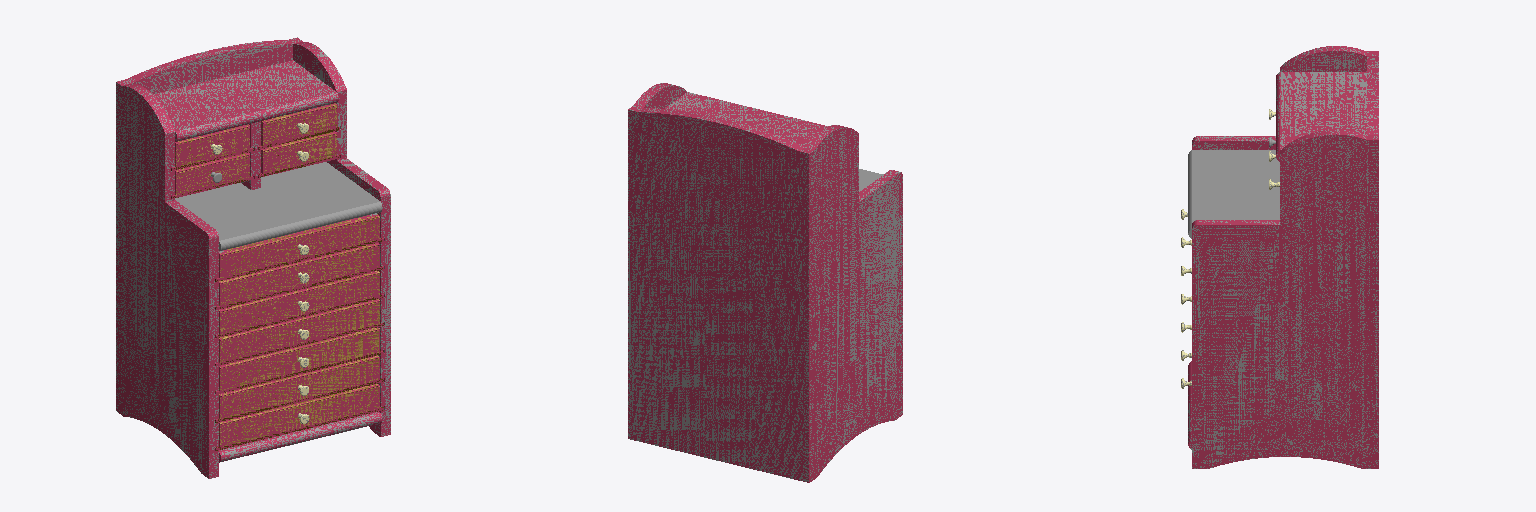
3 renders of one model, left to right at view 1: azimuth 30°, elevation 25°; view 2: azimuth 150°, elevation 25°; view 3: azimuth 270°, elevation 25°, orthographic.
Visible parts, largest first — view 1: instance_52_ID279, instance_49_ID249, instance_50_ID259, instance_51_ID269, instance_54_ID491, instance_19_ID28, instance_13_ID28, instance_1.002_ID28, instance_1.001_ID28, instance_1.003_ID28, instance_1_ID28, instance_7_ID28 (+6 smaller); view 2: instance_54_ID491, instance_52_ID279, instance_50_ID259, instance_51_ID269; view 3: instance_51_ID269, instance_49_ID249, instance_50_ID259, instance_52_ID279, instance_54_ID491.
Part boxes in pixels (x1,y1,x2,y2): instance_52_ID279: (116, 81, 218, 478); instance_49_ID249: (175, 162, 382, 250); instance_50_ID259: (153, 60, 338, 141); instance_51_ID269: (293, 37, 390, 436); instance_54_ID491: (121, 39, 297, 93); instance_19_ID28: (219, 214, 379, 277); instance_13_ID28: (219, 299, 379, 362); instance_1.002_ID28: (219, 271, 379, 334); instance_1.001_ID28: (219, 327, 379, 390); instance_1.003_ID28: (219, 243, 379, 306); instance_1_ID28: (219, 355, 379, 418); instance_7_ID28: (219, 384, 379, 446); instance_54_ID491: (633, 107, 809, 481); instance_52_ID279: (804, 125, 902, 482); instance_50_ID259: (665, 92, 827, 146); instance_51_ID269: (628, 83, 686, 439); instance_51_ID269: (1192, 130, 1378, 468); instance_49_ID249: (1188, 150, 1279, 238); instance_50_ID259: (1276, 72, 1366, 161); instance_52_ID279: (1192, 46, 1378, 149); instance_54_ID491: (1367, 54, 1378, 137).
Bounding box in the file's own units: 6.92 × 12.31 × 6.51.
8 materials, 2 textured.